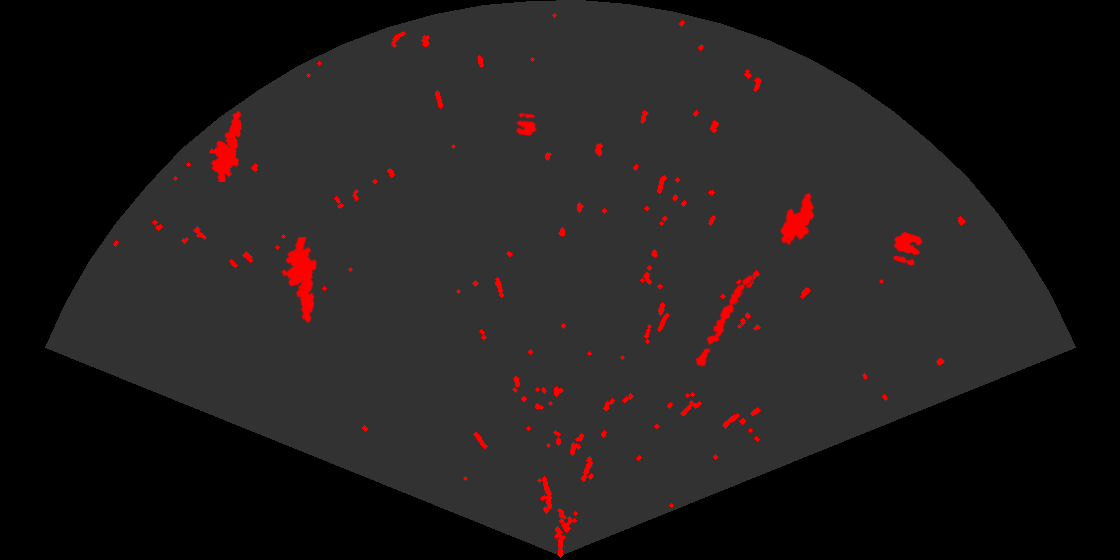AUV: (779, 191, 816, 247)
ball: (891, 230, 924, 267), (514, 111, 538, 137)
chain: (694, 273, 754, 368)
frogman: (279, 237, 319, 325), (207, 109, 243, 182)
